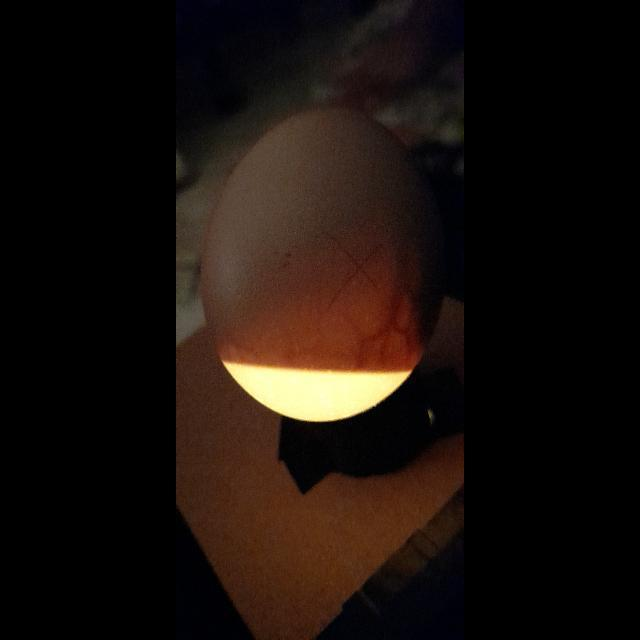Fertile: (196, 103, 444, 421)
